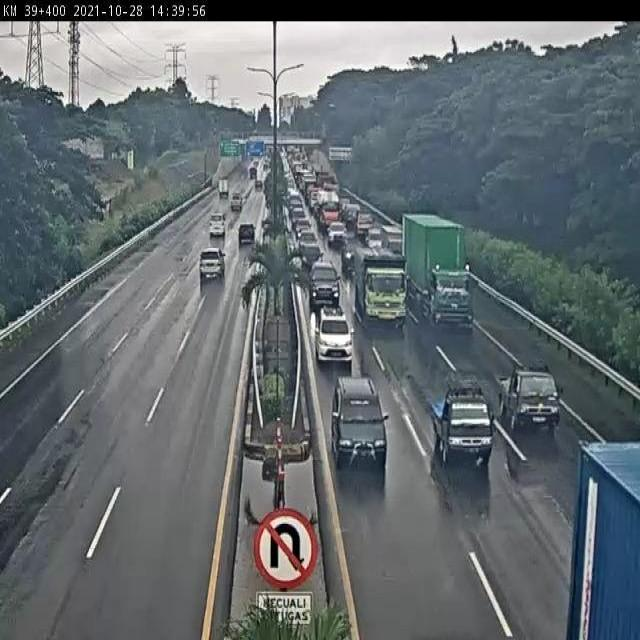big truck: (403, 211, 473, 324), (356, 245, 405, 318)
car: (333, 379, 388, 461), (432, 388, 493, 460), (496, 364, 562, 429), (314, 306, 355, 366), (308, 261, 341, 303), (198, 248, 224, 279), (299, 236, 323, 264), (342, 235, 364, 265), (380, 221, 401, 252), (354, 209, 376, 235), (326, 221, 345, 247), (206, 218, 226, 242), (237, 225, 257, 247), (229, 194, 244, 218), (362, 224, 381, 241)
